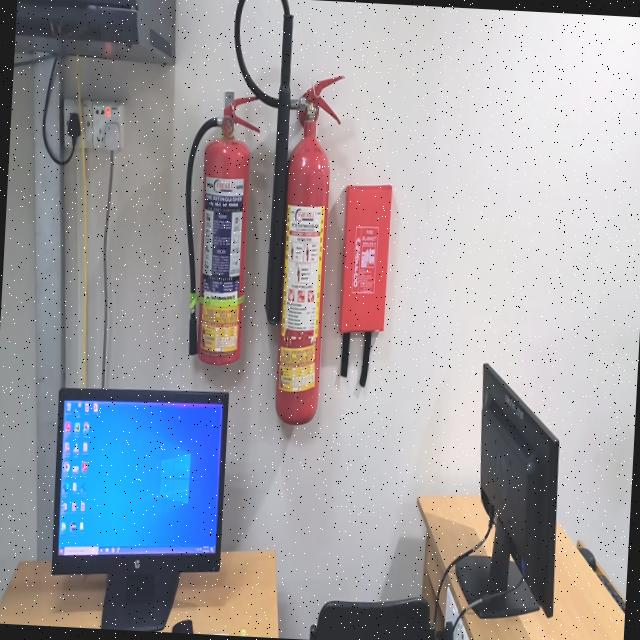Chair: (309, 597, 430, 640)
Fire Extinguisher: (274, 76, 342, 423), (197, 128, 249, 364)
Keyboard: (595, 564, 626, 615)
Monitor: (50, 387, 228, 631), (455, 363, 558, 617)
Mouse: (576, 540, 595, 569)
